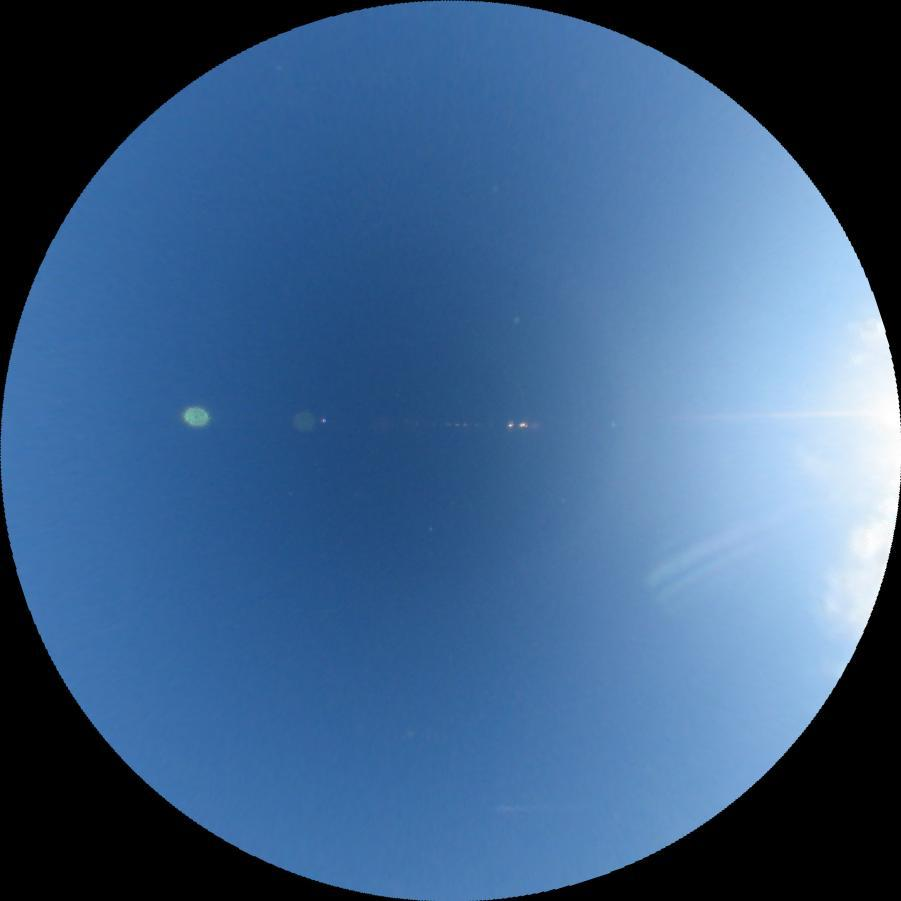contrail young: (496, 804, 557, 812)
parasite: (639, 517, 754, 591), (685, 409, 844, 421)
